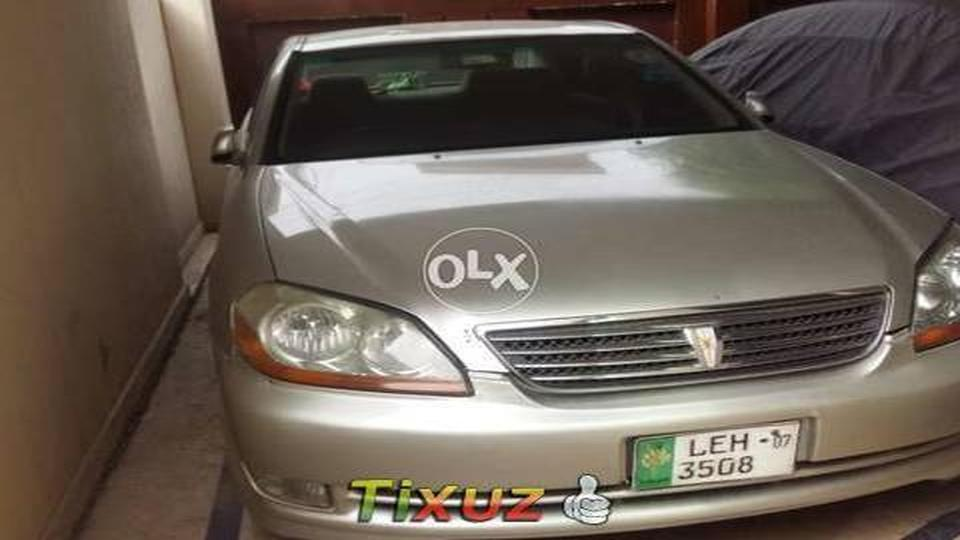NumberPlate: (629, 433, 811, 484)
